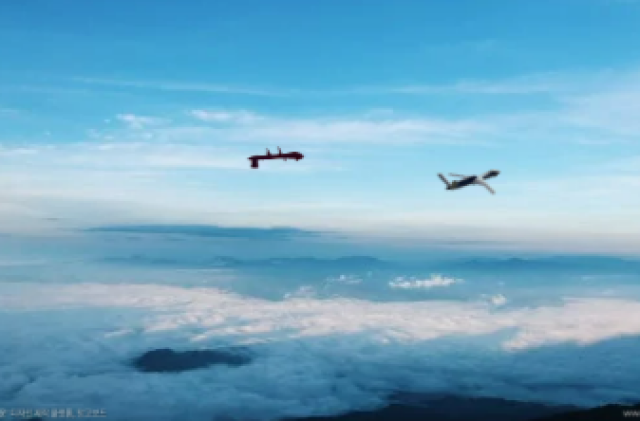military drone: (435, 168, 501, 196), (246, 145, 305, 169)
